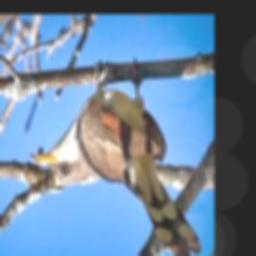Cuckoo: (29, 78, 200, 256)
